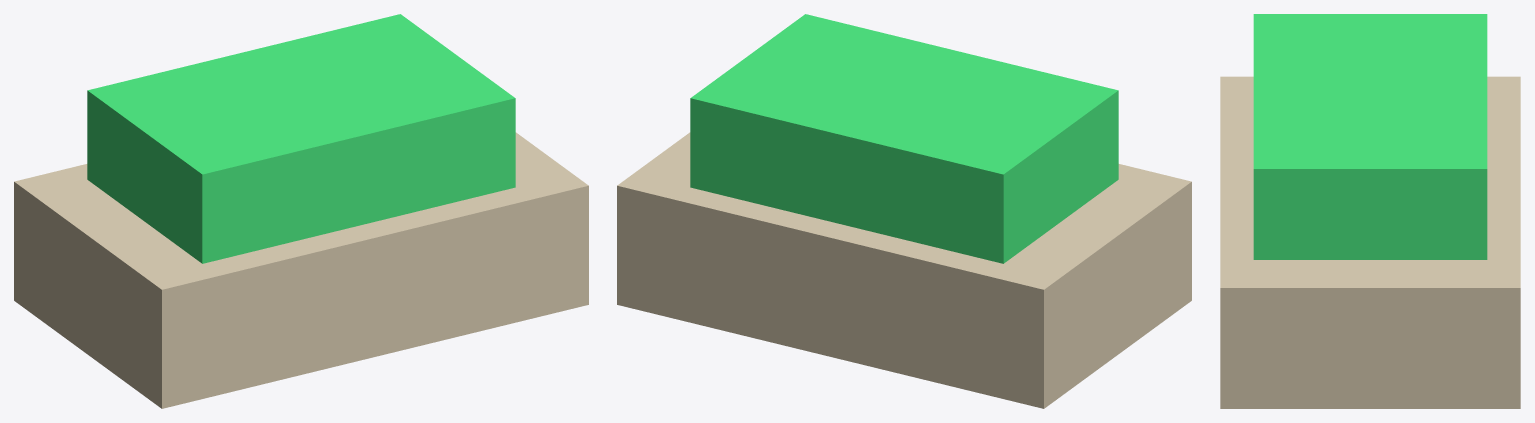
File: 065_L101_LED2.glb
The picture shows the model from 3 angles, left to right: view 1: azimuth 30°, elevation 25°; view 2: azimuth 150°, elevation 25°; view 3: azimuth 270°, elevation 25°; orthographic projection.
Visible parts, largest first — view 1: LED_Ceramic_Base_0, LED_Lens_1; view 2: LED_Ceramic_Base_0, LED_Lens_1; view 3: LED_Lens_1, LED_Ceramic_Base_0.
Boxes of the visible parts, x1,y1,x2,y2 form: LED_Ceramic_Base_0: (14, 132, 588, 408); LED_Lens_1: (87, 14, 515, 263); LED_Ceramic_Base_0: (617, 132, 1191, 408); LED_Lens_1: (690, 14, 1118, 263); LED_Lens_1: (1253, 14, 1487, 259); LED_Ceramic_Base_0: (1220, 76, 1520, 408).
Size of the model in its own units: 0.003 by 0.0014 by 0.0018.
